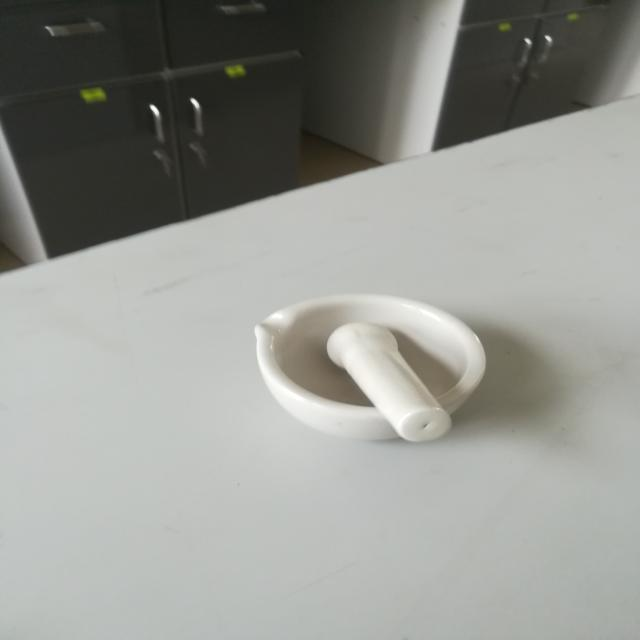Porcelain_Mortar Pestle: (188, 262, 545, 470)
